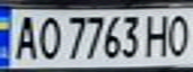3: (121, 12, 145, 59)
6: (103, 12, 124, 60)
7: (84, 12, 106, 61), (63, 12, 84, 61)
A: (6, 11, 42, 61)
H: (142, 11, 175, 58)
O: (33, 12, 63, 61), (163, 11, 193, 57)
